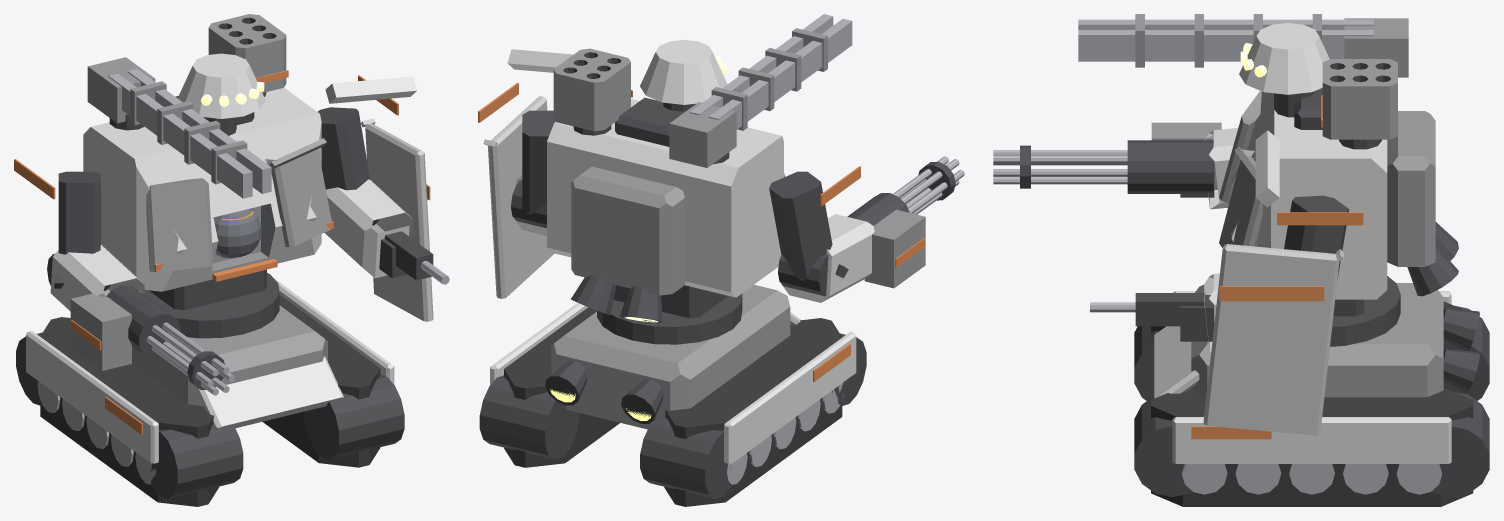
Rendered from rampart.glb.
3 renders of one model, left to right at view 1: azimuth 30°, elevation 25°; view 2: azimuth 150°, elevation 25°; view 3: azimuth 270°, elevation 25°, orthographic. The views are drawn at different scales.
Parts seen in each view (by area): view 1: core, track-1, hull, shield1_slab, glacis, skirt-1, pec-1, sprocket15.2, sprocket-15.2, forearm1, pec1, track1 (+29 smaller); view 2: core, hull, pack, track-1, shield1_slab, skirt-1, sprocket1-5.2, vmissile1, sprocket-1-5.2, upperarm-1, track1, helm (+26 smaller); view 3: shield1_slab, core, skirt1, track1, hull, pack, vmissile1, railgun-1_rail0.45, helm, gatling-1_body, sprocket1-5.2, sprocket15.2 (+31 smaller).
Part boxes in pixels (left/top/right/bottom): core: left=83, top=88, right=321, bottom=291; track-1: left=40, top=317, right=218, bottom=506; hull: left=132, top=305, right=327, bottom=406; shield1_slab: left=361, top=118, right=433, bottom=321; glacis: left=198, top=356, right=343, bottom=428; skirt-1: left=26, top=331, right=158, bottom=463; pec-1: left=146, top=178, right=213, bottom=271; sprocket15.2: left=304, top=374, right=404, bottom=459; sprocket-15.2: left=150, top=424, right=243, bottom=498; forearm1: left=324, top=179, right=412, bottom=278; pec1: left=264, top=138, right=331, bottom=246; track1: left=262, top=295, right=380, bottom=467; core: left=547, top=99, right=783, bottom=297; hull: left=551, top=284, right=790, bottom=429; pack: left=571, top=166, right=684, bottom=295; track-1: left=664, top=318, right=842, bottom=506; shield1_slab: left=483, top=96, right=554, bottom=298; skirt-1: left=724, top=331, right=856, bottom=463; sprocket1-5.2: left=479, top=375, right=579, bottom=459; vmissile1: left=553, top=48, right=630, bottom=131; sprocket-1-5.2: left=640, top=415, right=731, bottom=498; upperarm-1: left=769, top=171, right=848, bottom=281; track1: left=504, top=307, right=619, bottom=467; helm: left=640, top=40, right=727, bottom=104; shield1_slab: left=1203, top=244, right=1343, bottom=435; core: left=1231, top=91, right=1387, bottom=299; skirt1: left=1172, top=417, right=1451, bottom=463; track1: left=1151, top=388, right=1473, bottom=506; hull: left=1191, top=283, right=1443, bottom=397; pack: left=1387, top=111, right=1435, bottom=266; vmissile1: left=1322, top=59, right=1397, bottom=139; railgun-1_rail0.45: left=1078, top=30, right=1373, bottom=61; helm: left=1239, top=23, right=1329, bottom=94; gatling-1_body: left=1127, top=140, right=1213, bottom=193; sprocket1-5.2: left=1431, top=392, right=1489, bottom=496; sprocket15.2: left=1134, top=396, right=1192, bottom=496.
Bounding box in the file's own units: 17.2 × 16.89 × 18.48.
